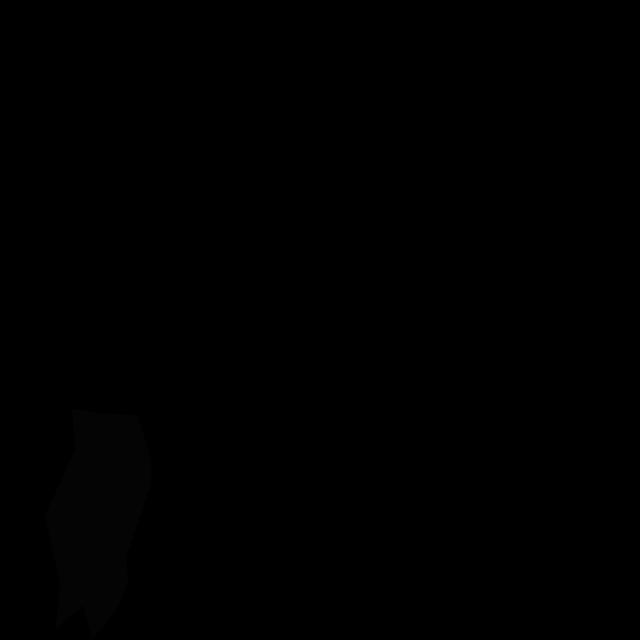soft_plastic: (45, 409, 152, 640)
